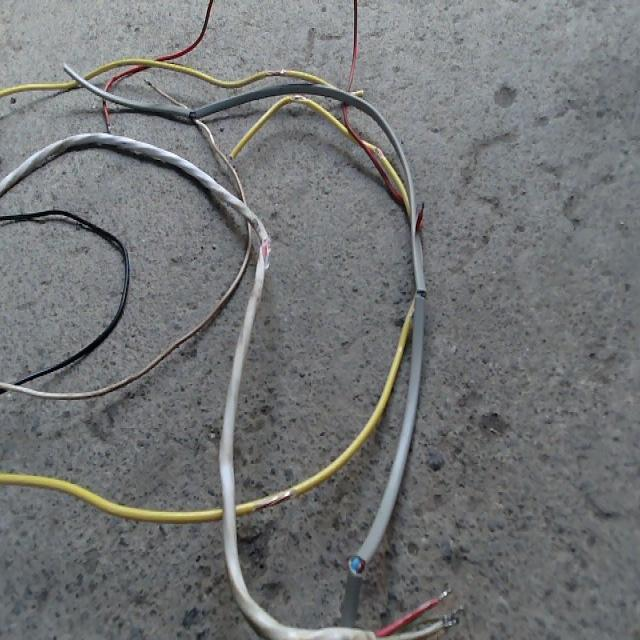-: (258, 236, 272, 267), (373, 144, 385, 157), (290, 92, 307, 100)
